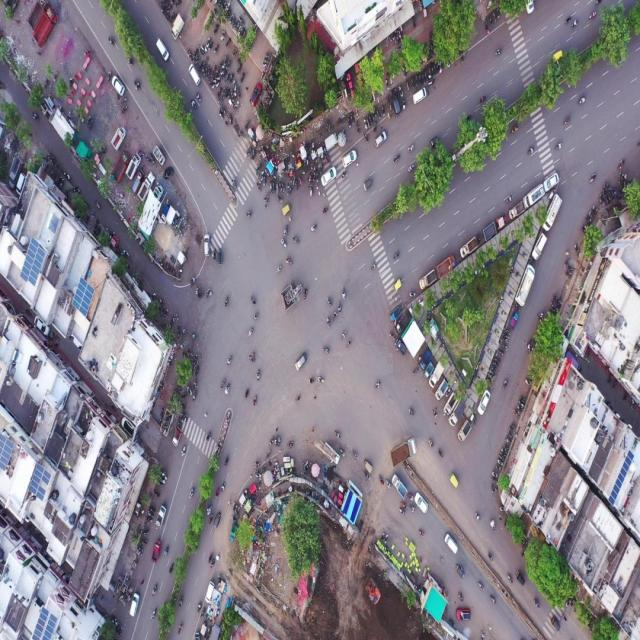3W: (361, 177, 376, 193), (548, 613, 560, 633), (449, 470, 460, 491), (454, 563, 465, 582), (281, 200, 293, 217), (515, 569, 526, 587), (392, 278, 404, 294), (214, 247, 224, 266), (551, 48, 564, 62), (364, 457, 374, 474), (214, 510, 222, 530)
Cars: (532, 231, 547, 260), (290, 349, 308, 372), (442, 532, 460, 555), (542, 170, 560, 192), (155, 34, 169, 62), (413, 492, 430, 514), (250, 82, 264, 107), (128, 591, 140, 620), (477, 389, 490, 415), (342, 147, 357, 168), (112, 74, 126, 95), (412, 86, 427, 105), (188, 63, 200, 86), (322, 167, 336, 186), (374, 130, 387, 150), (456, 606, 472, 622), (392, 89, 401, 115), (202, 230, 210, 257)
LCV: (515, 265, 535, 307), (542, 195, 563, 229), (435, 253, 456, 280), (523, 183, 543, 210), (392, 470, 409, 499), (138, 173, 155, 201), (459, 235, 478, 260), (322, 440, 340, 464), (110, 124, 126, 150), (154, 504, 168, 532), (150, 539, 163, 569), (450, 401, 466, 425), (429, 362, 443, 389), (420, 268, 437, 290), (434, 380, 450, 403), (130, 168, 144, 194), (170, 14, 183, 41), (444, 391, 458, 416), (458, 419, 472, 443), (153, 144, 168, 164), (509, 200, 524, 220), (126, 154, 139, 177), (419, 348, 431, 371), (325, 132, 338, 151), (388, 305, 402, 322), (395, 339, 407, 356), (509, 311, 519, 331), (172, 426, 181, 446), (424, 363, 433, 380)
M2W: (486, 548, 496, 564), (176, 592, 186, 608), (500, 376, 510, 391), (167, 560, 175, 578), (554, 139, 564, 153), (588, 171, 598, 185), (570, 16, 580, 30), (151, 581, 159, 598), (179, 441, 188, 456), (176, 619, 183, 638), (577, 94, 587, 107), (133, 77, 141, 93), (488, 592, 497, 606), (474, 507, 481, 525), (406, 142, 416, 154), (505, 191, 515, 203), (506, 572, 514, 586), (437, 448, 445, 462), (230, 176, 238, 190), (204, 428, 212, 442), (255, 162, 262, 178), (537, 312, 545, 326), (572, 242, 579, 258), (562, 115, 572, 126), (378, 470, 384, 488), (392, 151, 401, 163), (303, 284, 309, 302), (150, 604, 156, 622), (345, 336, 352, 351), (477, 580, 485, 593), (589, 9, 597, 22), (417, 527, 426, 538), (307, 376, 316, 387), (246, 326, 255, 337), (124, 56, 133, 67), (310, 222, 319, 233), (533, 596, 540, 610), (374, 378, 381, 392), (107, 34, 114, 48), (188, 486, 195, 500), (408, 503, 416, 515), (386, 476, 392, 492), (408, 162, 416, 174), (325, 296, 333, 308), (294, 393, 302, 405), (254, 368, 260, 384), (282, 222, 288, 238), (214, 484, 220, 500), (208, 513, 216, 525), (196, 598, 202, 614), (495, 47, 502, 60), (224, 382, 231, 395), (293, 234, 300, 247), (428, 435, 434, 450), (223, 453, 229, 468), (563, 15, 572, 25), (398, 83, 404, 98), (527, 146, 535, 157), (334, 430, 342, 441), (354, 125, 362, 136), (402, 64, 407, 81), (457, 590, 464, 602), (407, 406, 414, 418), (511, 123, 518, 135), (340, 328, 347, 340), (250, 292, 256, 306), (231, 47, 238, 59), (149, 152, 156, 164), (160, 468, 167, 480), (399, 500, 408, 509), (392, 252, 401, 261), (478, 94, 486, 104), (341, 285, 346, 301), (120, 104, 128, 114), (484, 19, 489, 35), (138, 538, 148, 546), (187, 384, 192, 400), (550, 305, 558, 315), (252, 394, 258, 407), (244, 387, 250, 400), (226, 354, 232, 367), (196, 90, 202, 103), (106, 69, 112, 82), (220, 479, 226, 492), (207, 550, 213, 563), (363, 133, 369, 146), (227, 112, 233, 125), (187, 50, 193, 63), (251, 148, 257, 161), (194, 365, 200, 378), (370, 261, 377, 272), (219, 378, 226, 389), (565, 270, 572, 281), (325, 316, 330, 331), (323, 347, 331, 356), (253, 310, 259, 322), (285, 257, 293, 266), (206, 502, 212, 514), (298, 175, 304, 187), (286, 187, 292, 199), (226, 36, 232, 48), (236, 62, 242, 74), (217, 87, 223, 99), (86, 115, 92, 127), (401, 100, 407, 112), (224, 294, 229, 308), (280, 238, 287, 248), (246, 210, 253, 220), (322, 205, 329, 215), (309, 184, 314, 198), (213, 44, 220, 54), (140, 529, 150, 536), (193, 388, 198, 402), (189, 277, 196, 287), (508, 422, 515, 432), (408, 490, 414, 501), (193, 48, 199, 59), (337, 301, 342, 314), (496, 7, 501, 20), (365, 116, 370, 129), (120, 96, 128, 104), (488, 12, 492, 28), (201, 45, 209, 53), (491, 360, 499, 368), (363, 471, 370, 480), (317, 375, 324, 384), (144, 516, 153, 523), (525, 378, 532, 387), (332, 310, 337, 322), (276, 264, 282, 274), (255, 182, 261, 192), (190, 99, 196, 109), (492, 10, 497, 22), (385, 80, 390, 92), (341, 170, 347, 180), (244, 119, 250, 129), (239, 72, 245, 82), (220, 31, 226, 41), (213, 22, 218, 34), (225, 73, 230, 85), (218, 58, 223, 70), (238, 129, 244, 139), (477, 231, 481, 246), (164, 544, 168, 558), (415, 74, 419, 88), (410, 76, 414, 90), (272, 180, 276, 194), (137, 148, 144, 156), (563, 259, 570, 267), (386, 96, 391, 107), (346, 118, 351, 129), (89, 119, 94, 130), (287, 179, 293, 188), (508, 431, 514, 440), (519, 399, 525, 408), (501, 341, 507, 350), (406, 78, 410, 91), (350, 114, 354, 127), (262, 175, 266, 188), (208, 42, 213, 52), (412, 367, 417, 377), (513, 408, 518, 418), (144, 156, 151, 163), (149, 506, 156, 513), (399, 507, 405, 515), (431, 64, 435, 76), (428, 80, 434, 88), (368, 114, 372, 126), (292, 174, 296, 186), (260, 170, 264, 182), (224, 54, 228, 66), (152, 492, 160, 498), (422, 71, 425, 86), (428, 66, 432, 77), (382, 106, 386, 117), (320, 161, 324, 172), (229, 72, 233, 83), (233, 80, 237, 91), (419, 73, 422, 87), (492, 471, 498, 478), (498, 349, 504, 356), (567, 266, 574, 272), (504, 328, 510, 335), (227, 60, 231, 70), (212, 64, 216, 74), (212, 80, 216, 90), (496, 464, 501, 472), (434, 63, 437, 76), (425, 69, 428, 82), (316, 170, 319, 183), (276, 182, 279, 195), (237, 87, 240, 100), (373, 122, 376, 134), (377, 108, 380, 120), (295, 179, 298, 191), (207, 36, 210, 48), (216, 78, 220, 87), (505, 438, 511, 444), (494, 356, 500, 362), (374, 106, 377, 117), (498, 460, 503, 466), (501, 447, 506, 453)
Truck: (31, 6, 55, 46), (389, 434, 418, 467), (110, 152, 128, 182)
